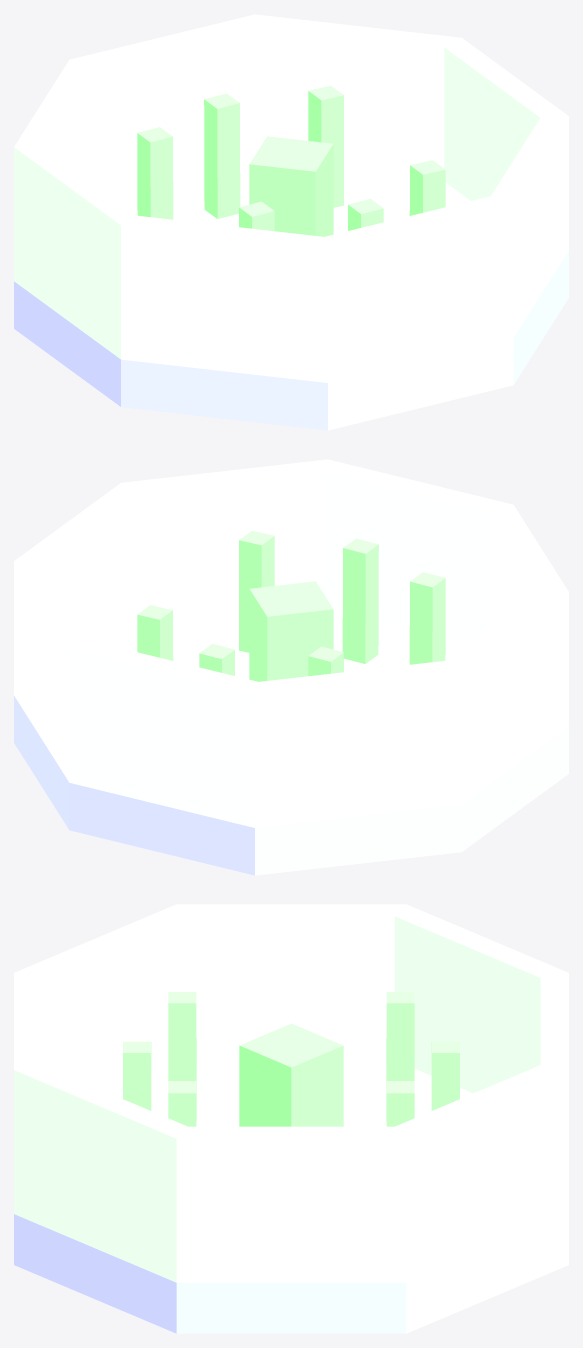
File: map_will-Ma.fbx
3 views of the same model, one above another, from view 1: azimuth 30°, elevation 25°; view 2: azimuth 150°, elevation 25°; view 3: azimuth 270°, elevation 25° (orthographic). The views are drawn at different scales.
Visible parts, largest first — view 1: Ma, Ma.005, Ma.002, Ma.006, Ma.001, Ma.008, Ma.004, Ma.003, Box.006, Ma.007, Box.005, Box.004 (+4 smaller); view 2: Ma, Ma.007, Ma.001, Ma.003, Ma.002, Ma.008, Ma.004, Ma.006, Box.006, Ma.005, Box.015, Box.013 (+4 smaller); view 3: Ma, Ma.004, Ma.008, Ma.003, Ma.006, Ma.005, Ma.007, Box.006, Ma.002, Ma.001, Box.004, Box.013 (+4 smaller).
Boxes of the visible parts, <box> form: Ma: <box>14,162,568,430</box>; Ma.005: <box>121,216,327,382</box>; Ma.002: <box>324,196,513,382</box>; Ma.006: <box>255,14,461,177</box>; Ma.001: <box>70,14,258,196</box>; Ma.008: <box>14,145,138,359</box>; Ma.004: <box>444,38,568,200</box>; Ma.003: <box>491,116,568,336</box>; Box.006: <box>249,136,333,236</box>; Ma.007: <box>14,59,92,181</box>; Box.005: <box>204,93,240,218</box>; Box.004: <box>137,127,173,219</box>; Ma: <box>14,607,568,875</box>; Ma.007: <box>255,661,461,827</box>; Ma.001: <box>69,641,258,827</box>; Ma.003: <box>121,459,327,622</box>; Ma.002: <box>324,459,512,641</box>; Ma.008: <box>444,590,568,804</box>; Ma.004: <box>14,483,138,645</box>; Ma.006: <box>14,561,91,781</box>; Box.006: <box>249,581,333,681</box>; Ma.005: <box>490,504,568,626</box>; Box.015: <box>342,538,378,663</box>; Box.013: <box>409,572,445,664</box>; Ma: <box>14,1060,568,1333</box>; Ma.004: <box>176,1126,406,1282</box>; Ma.008: <box>177,904,405,1060</box>; Ma.003: <box>14,1065,187,1282</box>; Ma.006: <box>395,1065,568,1282</box>; Ma.005: <box>14,904,188,1093</box>; Ma.007: <box>394,904,568,1093</box>; Box.006: <box>239,1023,343,1126</box>; Ma.002: <box>14,973,42,1069</box>; Ma.001: <box>540,973,568,1069</box>; Box.004: <box>386,992,414,1121</box>; Box.013: <box>168,992,196,1121</box>.
Size of the model in its own units: 360 by 140 by 360.
